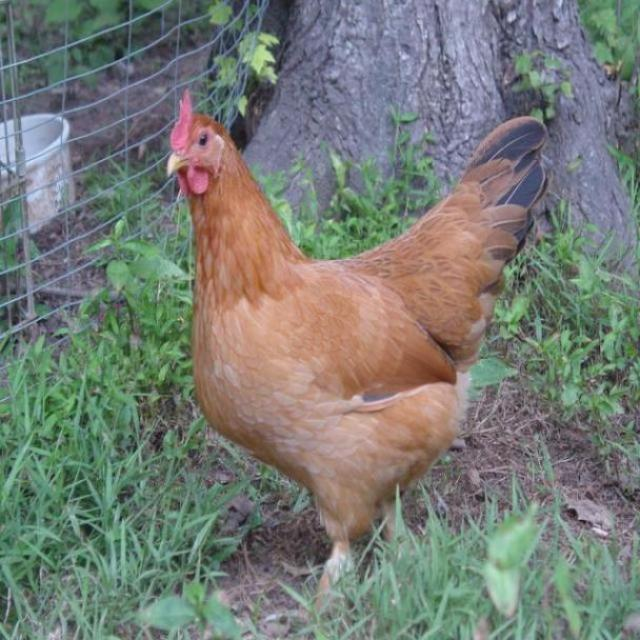Chicken: (158, 81, 553, 603)
